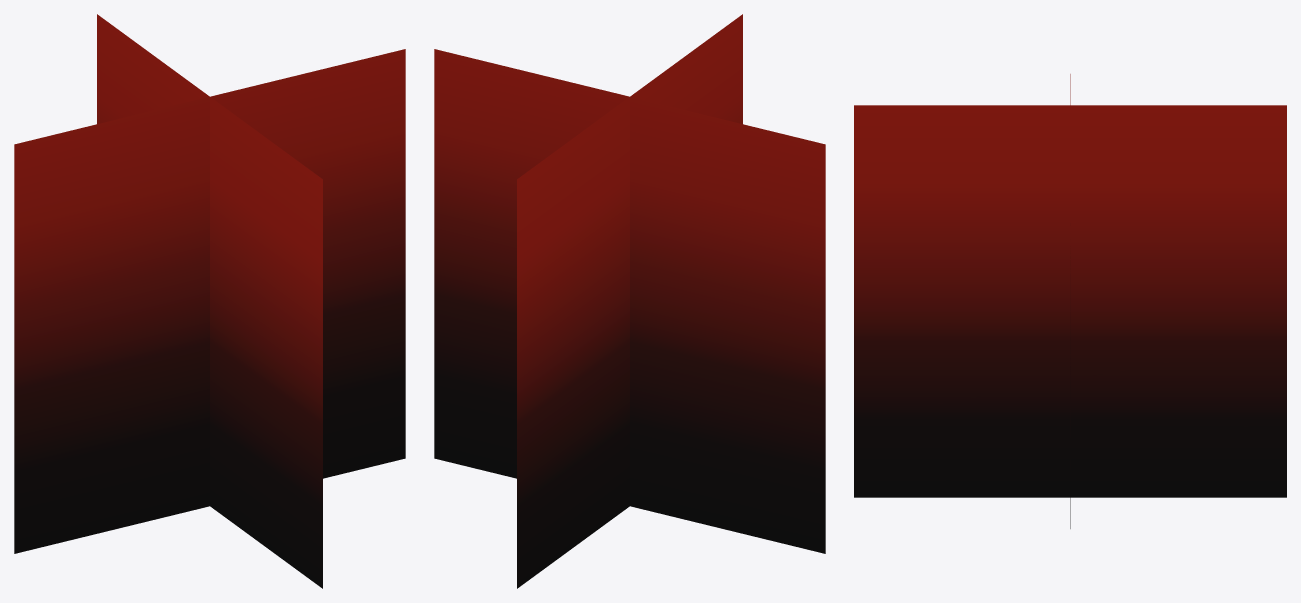
File: Grass_Mesh.fbx
3 views of the same model, side by side, from view 1: azimuth 30°, elevation 25°; view 2: azimuth 150°, elevation 25°; view 3: azimuth 270°, elevation 25° (orthographic). The views are drawn at different scales.
Parts seen in each view (by area): view 1: Plane001; view 2: Plane001; view 3: Plane001.
Boxes of the visible parts, <box> form: Plane001: <box>14,14,405,588</box>; Plane001: <box>434,14,825,588</box>; Plane001: <box>854,74,1286,528</box>.
Bounding box in the file's own units: 60 × 60 × 60.
